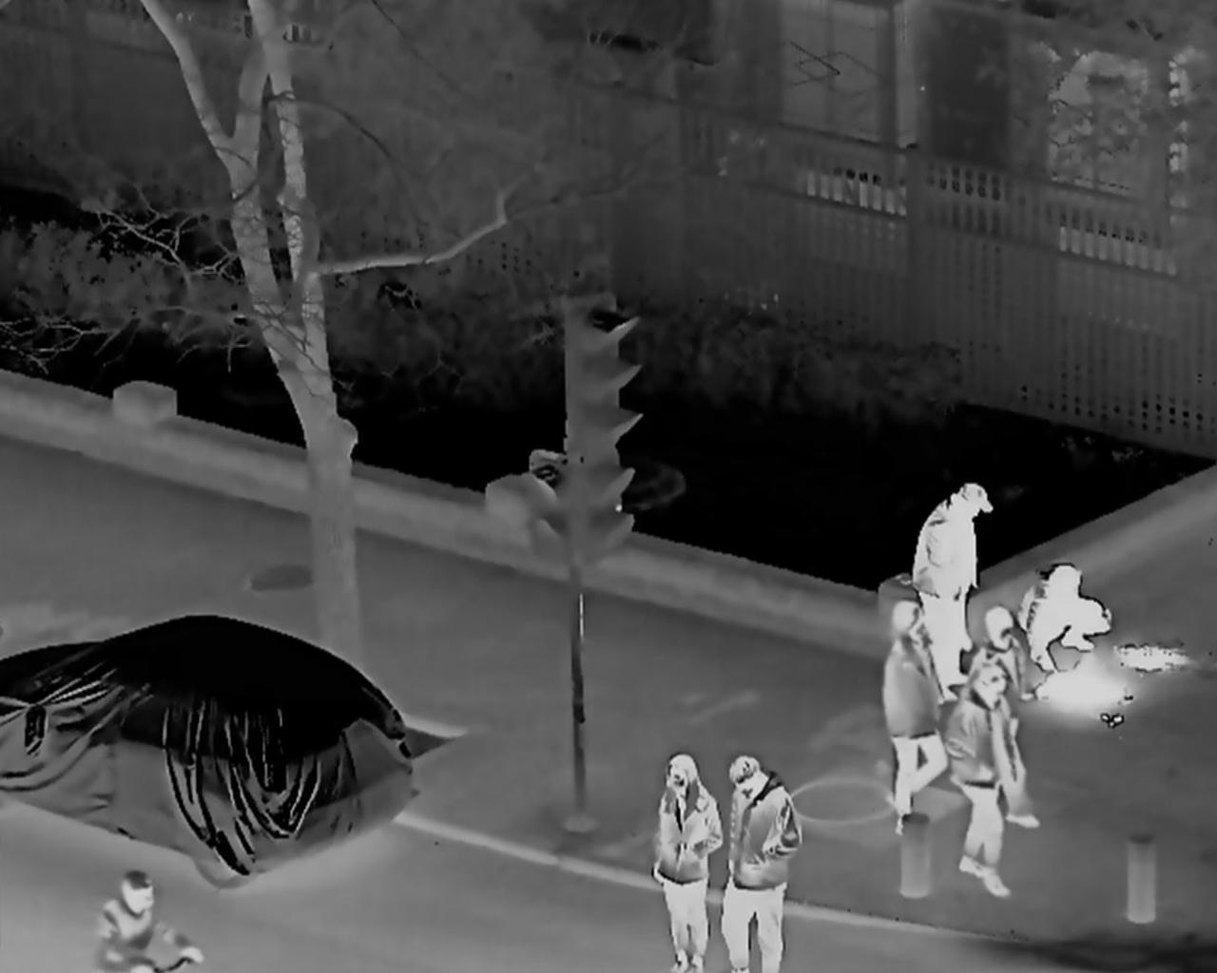person: (711, 758, 800, 973), (652, 753, 721, 973), (969, 613, 1039, 829), (912, 482, 985, 684), (884, 602, 946, 832), (949, 666, 1004, 899), (91, 868, 203, 973), (1018, 565, 1108, 675)
